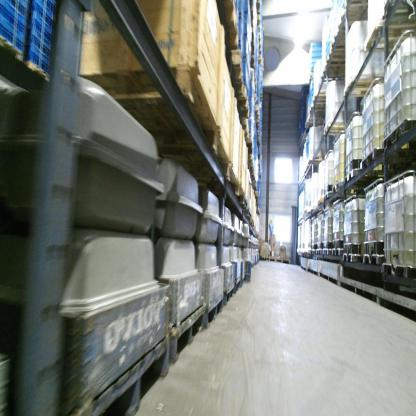pallet: (83, 335, 171, 414), (169, 302, 209, 358), (365, 19, 414, 52), (216, 1, 238, 47), (342, 77, 385, 99), (223, 44, 244, 88), (336, 9, 369, 35), (203, 296, 224, 331), (2, 36, 24, 66), (342, 169, 378, 187), (321, 60, 346, 83), (218, 282, 235, 312), (233, 89, 251, 114), (330, 35, 351, 52), (323, 121, 346, 136), (239, 114, 251, 138), (305, 156, 326, 167), (326, 53, 346, 64), (232, 276, 242, 297), (311, 92, 328, 104), (254, 30, 263, 51), (303, 119, 321, 129), (309, 104, 326, 113), (244, 138, 254, 153), (324, 192, 336, 204), (237, 196, 248, 208), (251, 104, 259, 119), (250, 177, 258, 192), (317, 195, 326, 208), (248, 0, 260, 9), (269, 256, 282, 263), (243, 209, 252, 219), (282, 258, 291, 264), (255, 194, 259, 204)
small_load_carrier: (26, 31, 52, 61), (2, 24, 25, 56), (0, 20, 22, 51), (1, 3, 26, 29), (30, 0, 54, 23), (27, 48, 49, 73), (29, 14, 53, 36), (7, 2, 27, 17)
